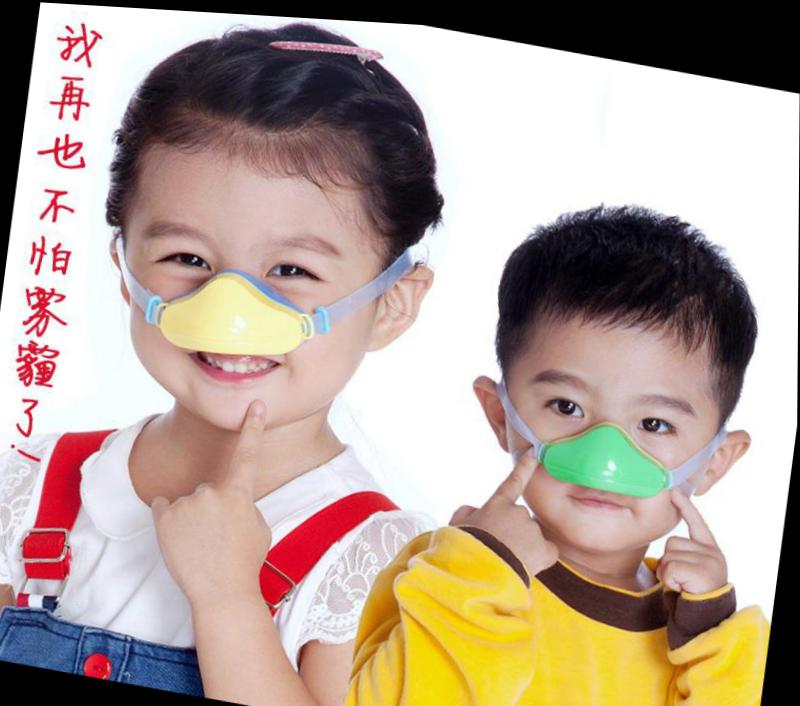WRONG: (118, 199, 350, 441), (504, 350, 703, 557)
